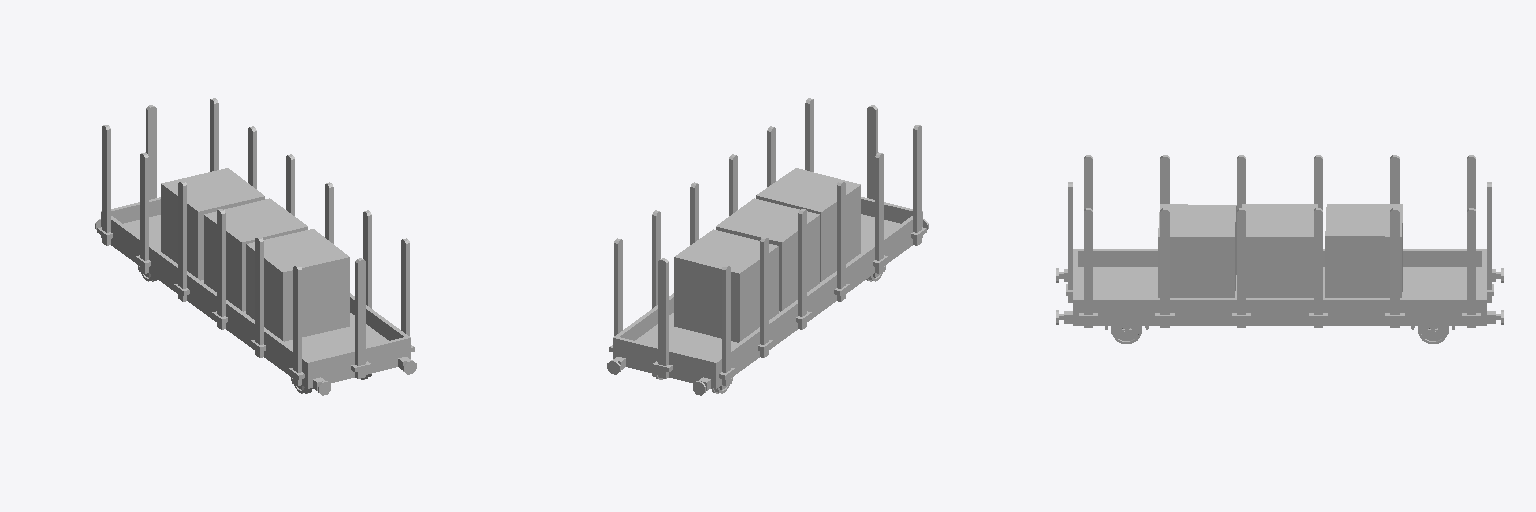
File: dlxtrains_industrial_wagons_stake_type1_loaded3.obj
3 views of the same model, side by side, from view 1: azimuth 30°, elevation 25°; view 2: azimuth 150°, elevation 25°; view 3: azimuth 270°, elevation 25° (orthographic).
Parts seen in each view (by area): view 1: dlxtrains_industrial_wagons_stake_type1_loaded3; view 2: dlxtrains_industrial_wagons_stake_type1_loaded3; view 3: dlxtrains_industrial_wagons_stake_type1_loaded3.
Boxes of the visible parts, x1,y1,x2,y2 form: dlxtrains_industrial_wagons_stake_type1_loaded3: [95, 98, 416, 395]; dlxtrains_industrial_wagons_stake_type1_loaded3: [607, 98, 928, 395]; dlxtrains_industrial_wagons_stake_type1_loaded3: [1056, 155, 1503, 343].
Size of the model in its own units: 17.5 by 21.11 by 58.38.